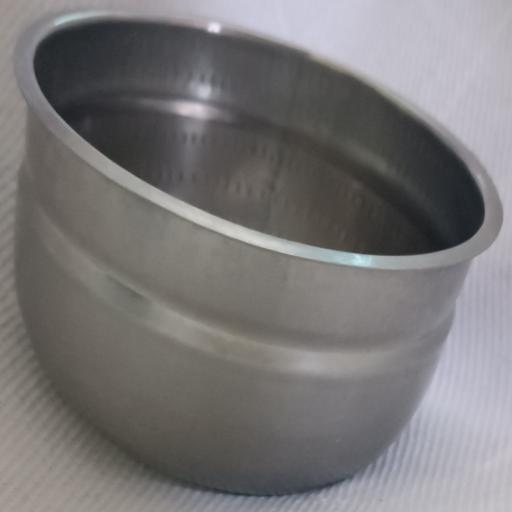vessel: (15, 12, 502, 493)
